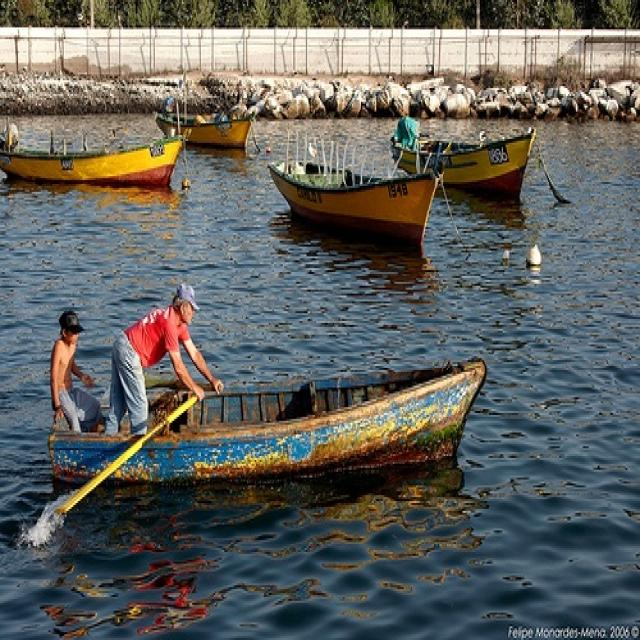boat: (50, 354, 486, 517), (266, 145, 452, 250), (1, 125, 191, 192), (392, 120, 535, 206), (153, 101, 254, 152)
